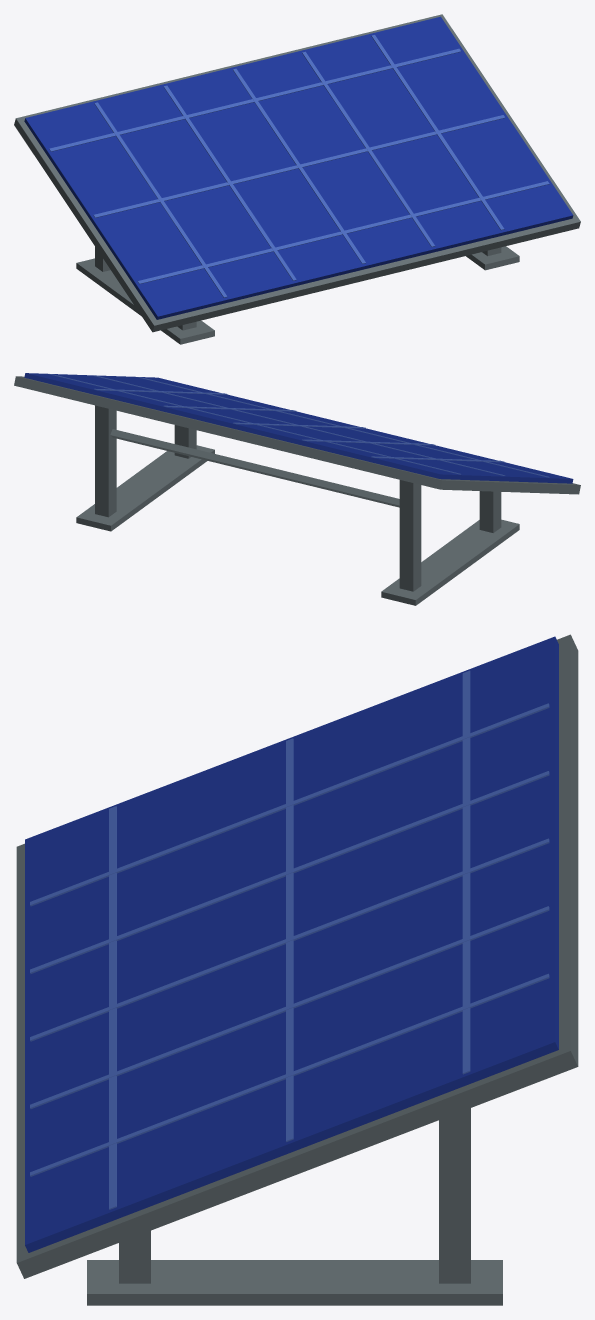
File: solarPanel.glb
The picture shows the model from 3 angles, top to bottom: view 1: azimuth 30°, elevation 25°; view 2: azimuth 150°, elevation 25°; view 3: azimuth 270°, elevation 25°; orthographic projection. The views are drawn at different scales.
Parts seen in each view (by area): view 1: solarPanel-m; view 2: solarPanel-m; view 3: solarPanel-m.
Boxes of the visible parts, x1,y1,x2,y2 form: solarPanel-m: (14,14,580,344); solarPanel-m: (14,373,580,605); solarPanel-m: (16,634,578,1305).
Bounding box in the file's own units: 3.08 × 1.04 × 1.75.
